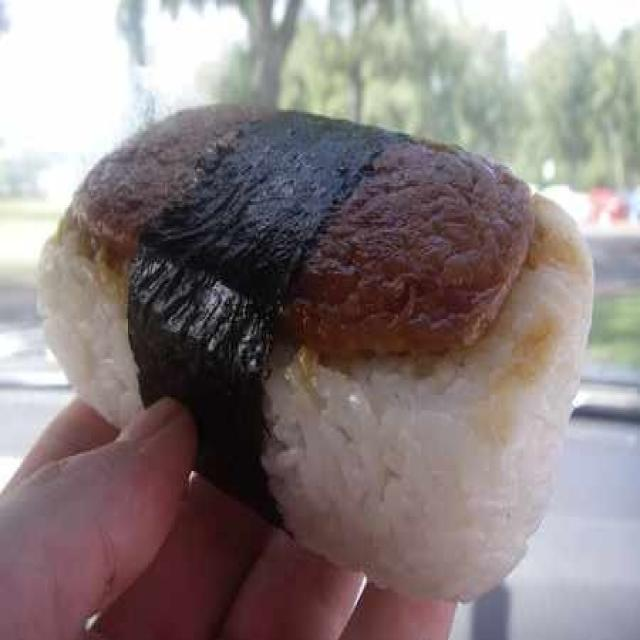寿司卷物: (32, 69, 598, 612)
